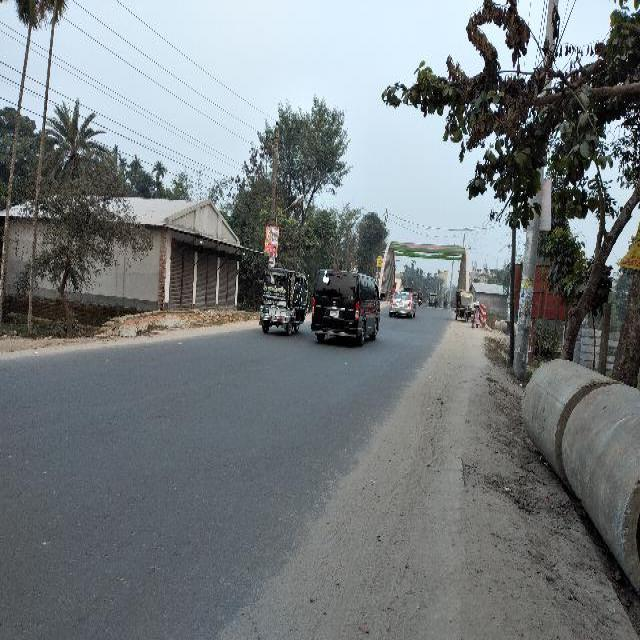bike: (418, 288, 424, 306), (444, 295, 448, 310)
vehicle: (311, 269, 385, 349), (259, 267, 310, 338), (390, 293, 417, 321), (455, 290, 473, 323), (430, 293, 439, 309)
